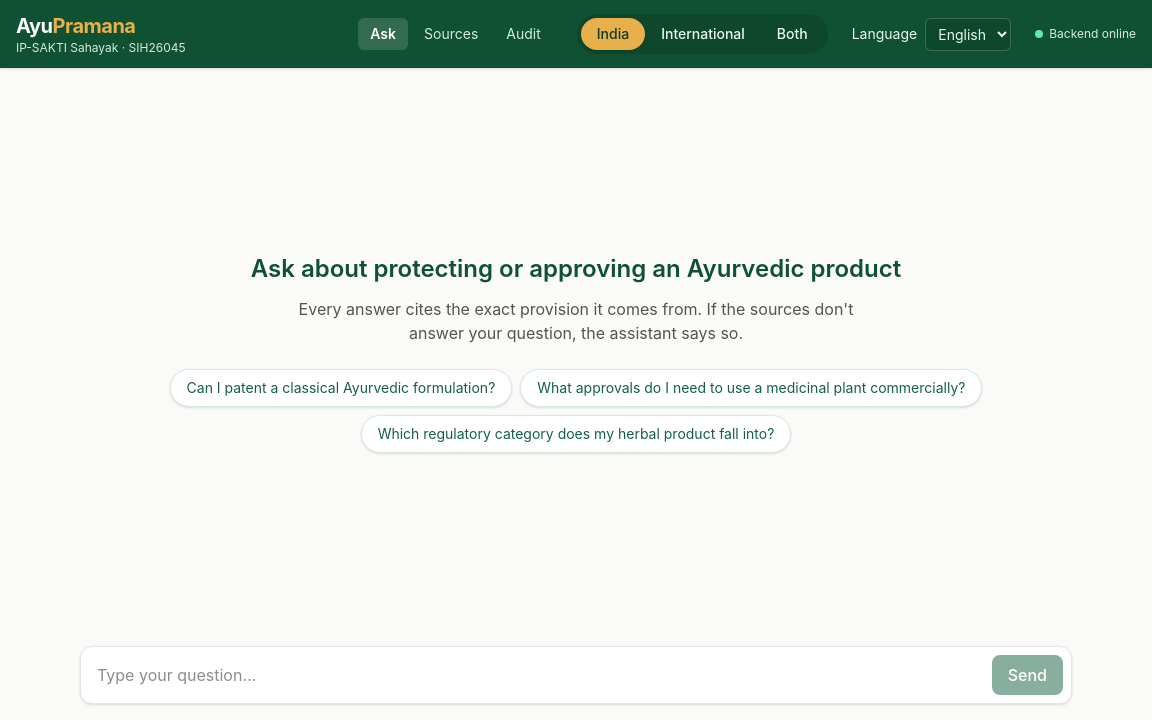
Test: Pages › records feedback on an answer
Type "How are widgets registered?" into the field at x=536, y=675, box [89, 655, 984, 695]
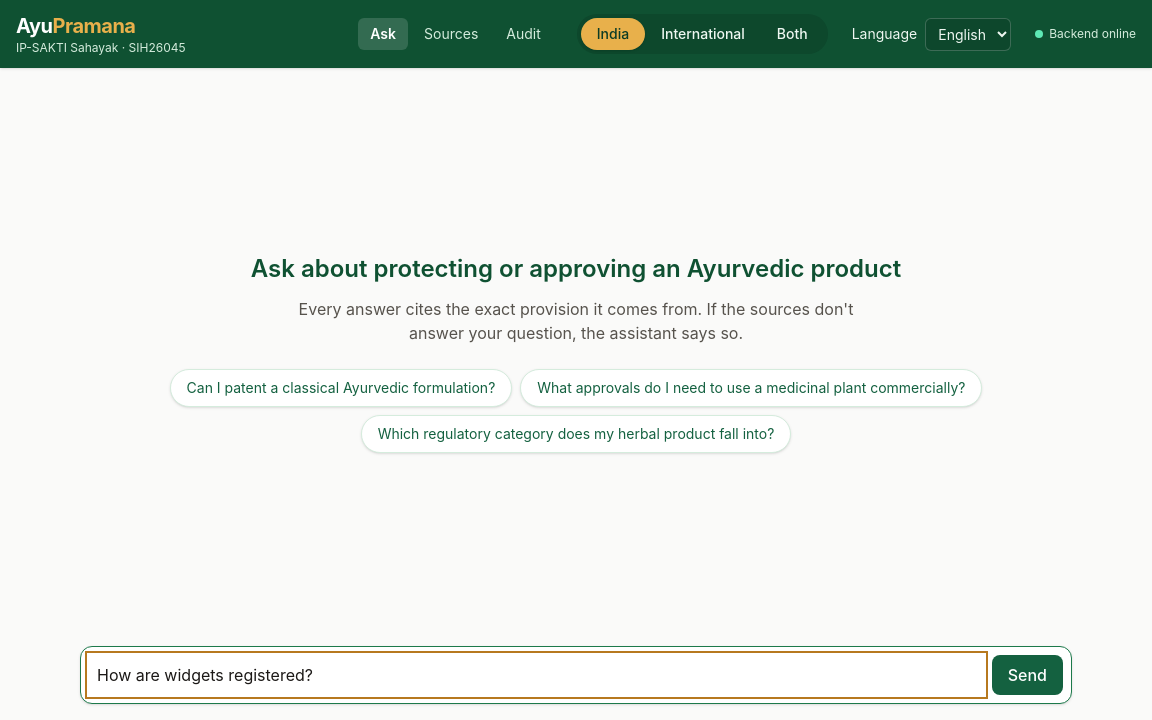
Click the button "Send" at x=1027, y=675, box [992, 655, 1063, 695]
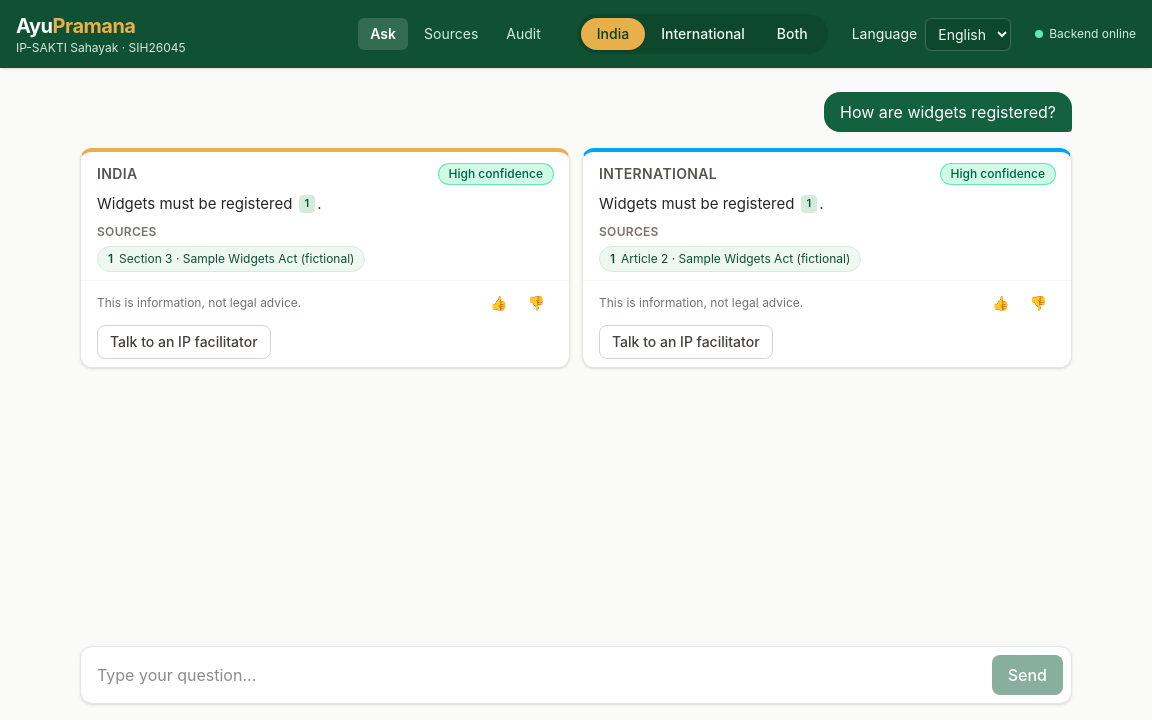
Click the button named "Helpful" at x=499, y=303, box [482, 289, 516, 317]
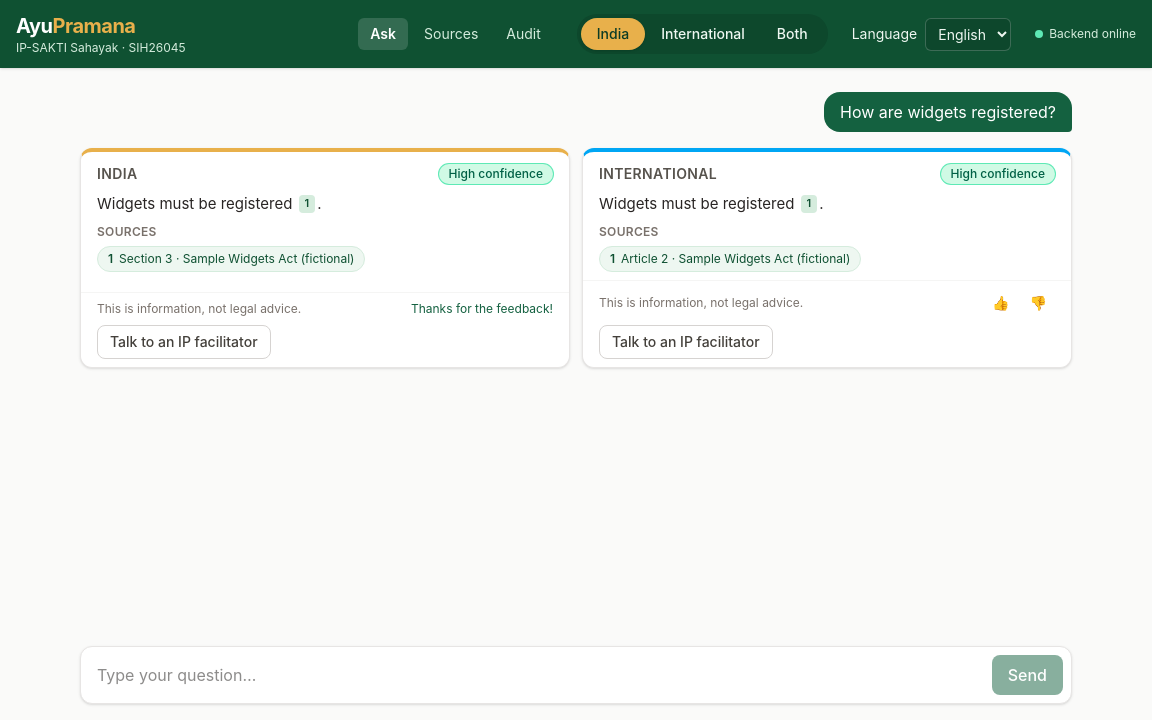
Now the text "Thanks for the feedback!" is shown, box [411, 301, 553, 317]
